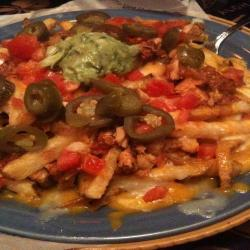fries: (22, 114, 247, 203)
